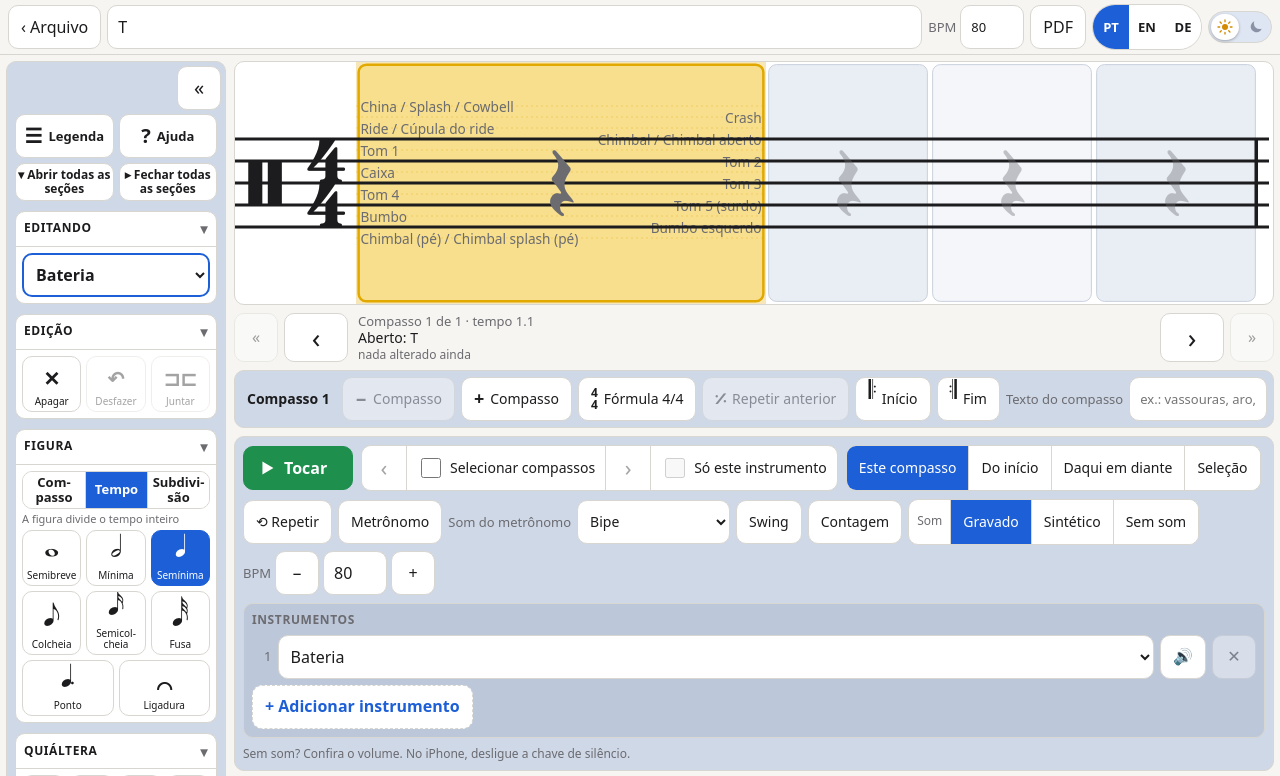
instruments › adding congas switches the palette to conga tools only, and the full score stacks both parts
Click the button "+ Adicionar instrumento" at (362, 706), box 252,684 -> 473,728
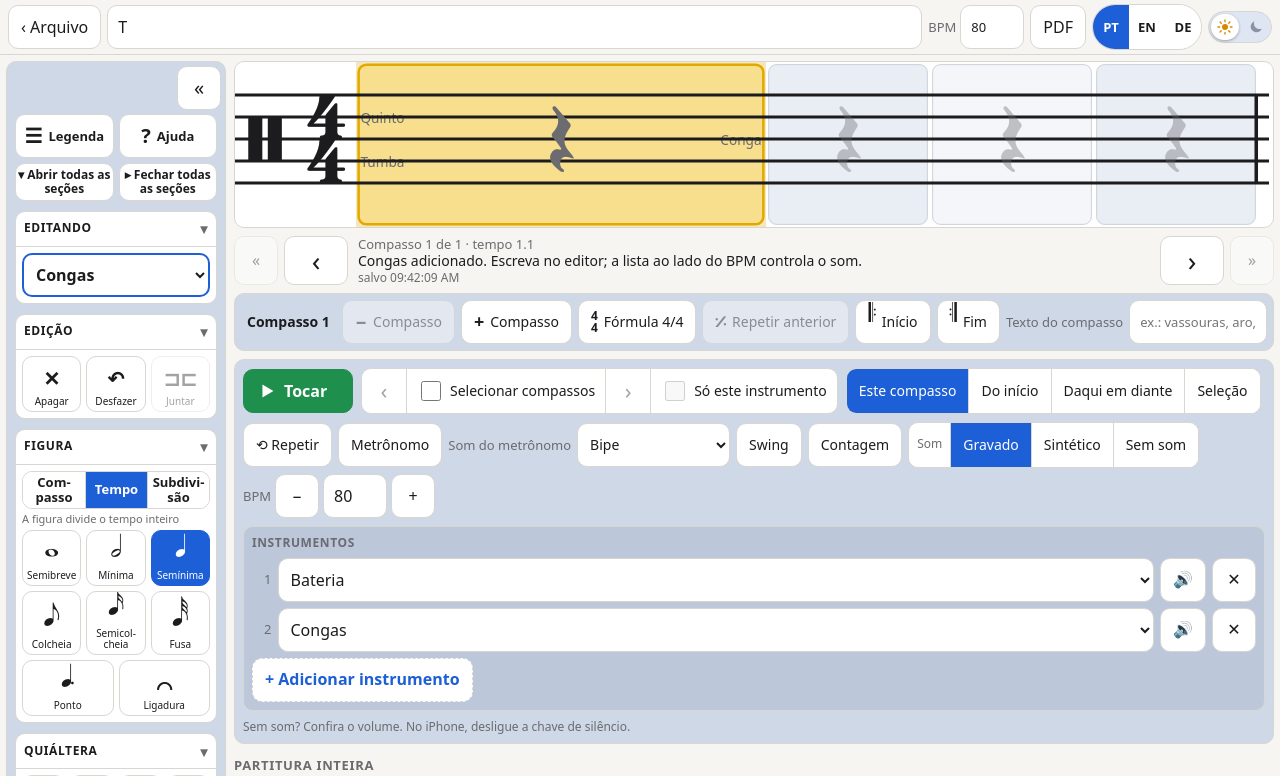
Check: the element with class "status" shows "Congas adicionado", box 358,251 -> 862,270
Check: the button labelled "Aberto" is gone
Check: the number of elements with class "staff" is 2
Select "Bateria" in the dropdown named "Instrumento" at (116, 275), box 22,253 -> 210,297
(page scrolled)
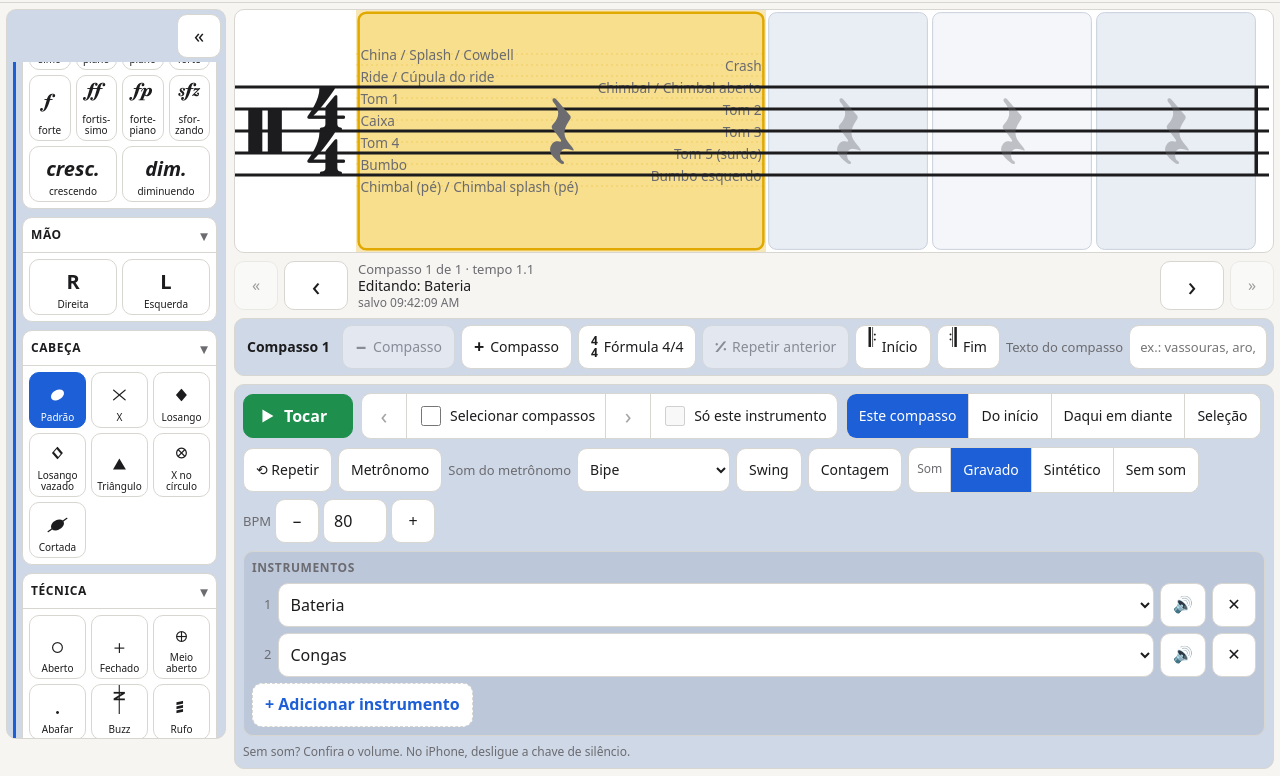
Check: the button labelled " Losango" is shown, box 153,372 -> 210,428
